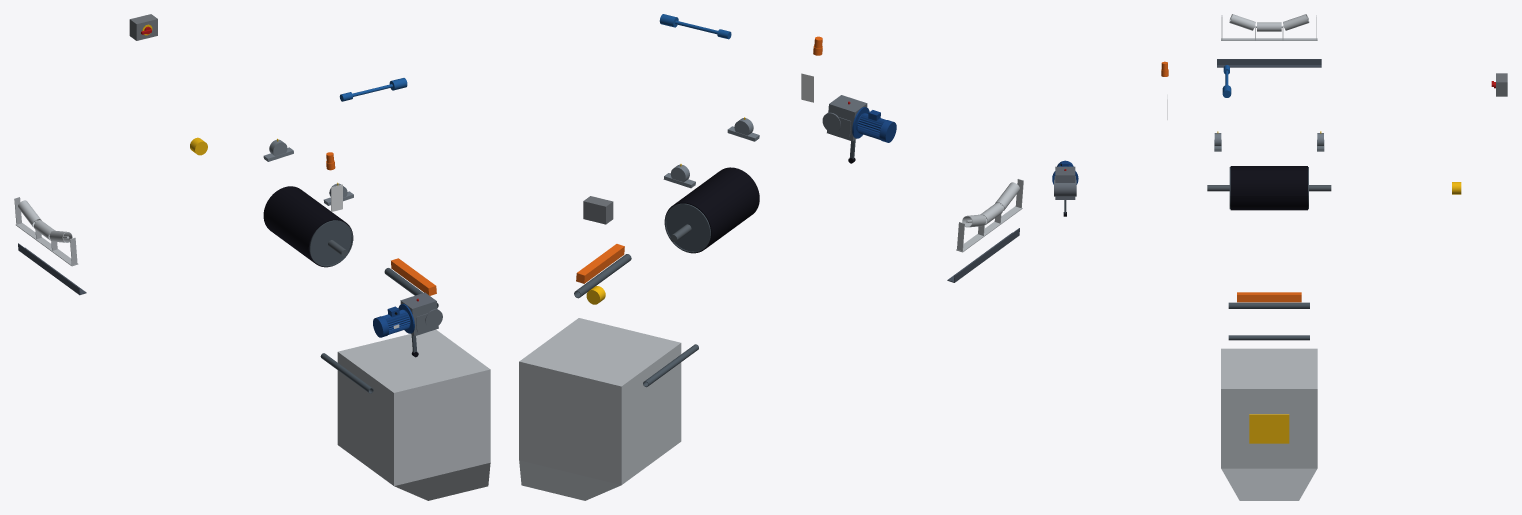
The model's file is CPO.glb.
The picture shows the model from 3 angles, left to right: view 1: azimuth 30°, elevation 25°; view 2: azimuth 150°, elevation 25°; view 3: azimuth 270°, elevation 25°; orthographic projection. The views are drawn at different scales.
Parts seen in each view (by area): view 1: CP-O Chute de cabeza de la CP-O#42, CP-O Revestimiento de goma romboidal 8 mm#12, CP-O#10, M82 Motorreductor ortogonal M82 1.1 kW#22, CP-O Hoja de poliuretano del rascador primario#40, Q-M82 Seccionador de seguridad bloqueable#46, CP-O Travesaño L 63#8; view 2: CP-O Chute de cabeza de la CP-O#42, CP-O Revestimiento de goma romboidal 8 mm#12, CP-O#11, M82 Motorreductor ortogonal M82 1.1 kW#22, CP-O Hoja de poliuretano del rascador primario#40, Q-M82 Seccionador de seguridad bloqueable#46, CP-O Travesaño L 63#8, CP-O Rascador primario de poliuretano#39; view 3: CP-O Chute de cabeza de la CP-O#42, CP-O Revestimiento de goma romboidal 8 mm#12, CP-O Puerta de inspección abisagrada del chute#43, CP-O Travesaño L 63#8, M82 Motorreductor ortogonal M82 1.1 kW#22, CP-O Hoja de poliuretano del rascador primario#40, CP-O Rascador primario de poliuretano#39.
Boxes of the visible parts, <box> form: CP-O Chute de cabeza de la CP-O#42: <box>337,329,490,500</box>; CP-O Revestimiento de goma romboidal 8 mm#12: <box>263,186,353,267</box>; CP-O#10: <box>311,221,351,265</box>; M82 Motorreductor ortogonal M82 1.1 kW#22: <box>400,292,442,336</box>; CP-O Hoja de poliuretano del rascador primario#40: <box>391,258,436,295</box>; Q-M82 Seccionador de seguridad bloqueable#46: <box>129,14,157,40</box>; CP-O Travesaño L 63#8: <box>18,243,86,295</box>; CP-O Chute de cabeza de la CP-O#42: <box>519,318,681,500</box>; CP-O Revestimiento de goma romboidal 8 mm#12: <box>664,167,759,253</box>; CP-O#11: <box>666,205,709,251</box>; M82 Motorreductor ortogonal M82 1.1 kW#22: <box>822,95,867,141</box>; CP-O Hoja de poliuretano del rascador primario#40: <box>576,244,624,283</box>; Q-M82 Seccionador de seguridad bloqueable#46: <box>583,196,613,224</box>; CP-O Travesaño L 63#8: <box>947,228,1019,282</box>; CP-O Rascador primario de poliuretano#39: <box>574,254,631,298</box>; CP-O Chute de cabeza de la CP-O#42: <box>1221,348,1317,500</box>; CP-O Revestimiento de goma romboidal 8 mm#12: <box>1230,166,1307,210</box>; CP-O Puerta de inspección abisagrada del chute#43: <box>1249,414,1289,443</box>; CP-O Travesaño L 63#8: <box>1217,59,1321,67</box>; M82 Motorreductor ortogonal M82 1.1 kW#22: <box>1054,166,1076,199</box>; CP-O Hoja de poliuretano del rascador primario#40: <box>1237,292,1301,302</box>; CP-O Rascador primario de poliuretano#39: <box>1228,302,1309,308</box>.
Bounding box in the file's own units: 4.01 × 3.88 × 4.3.
